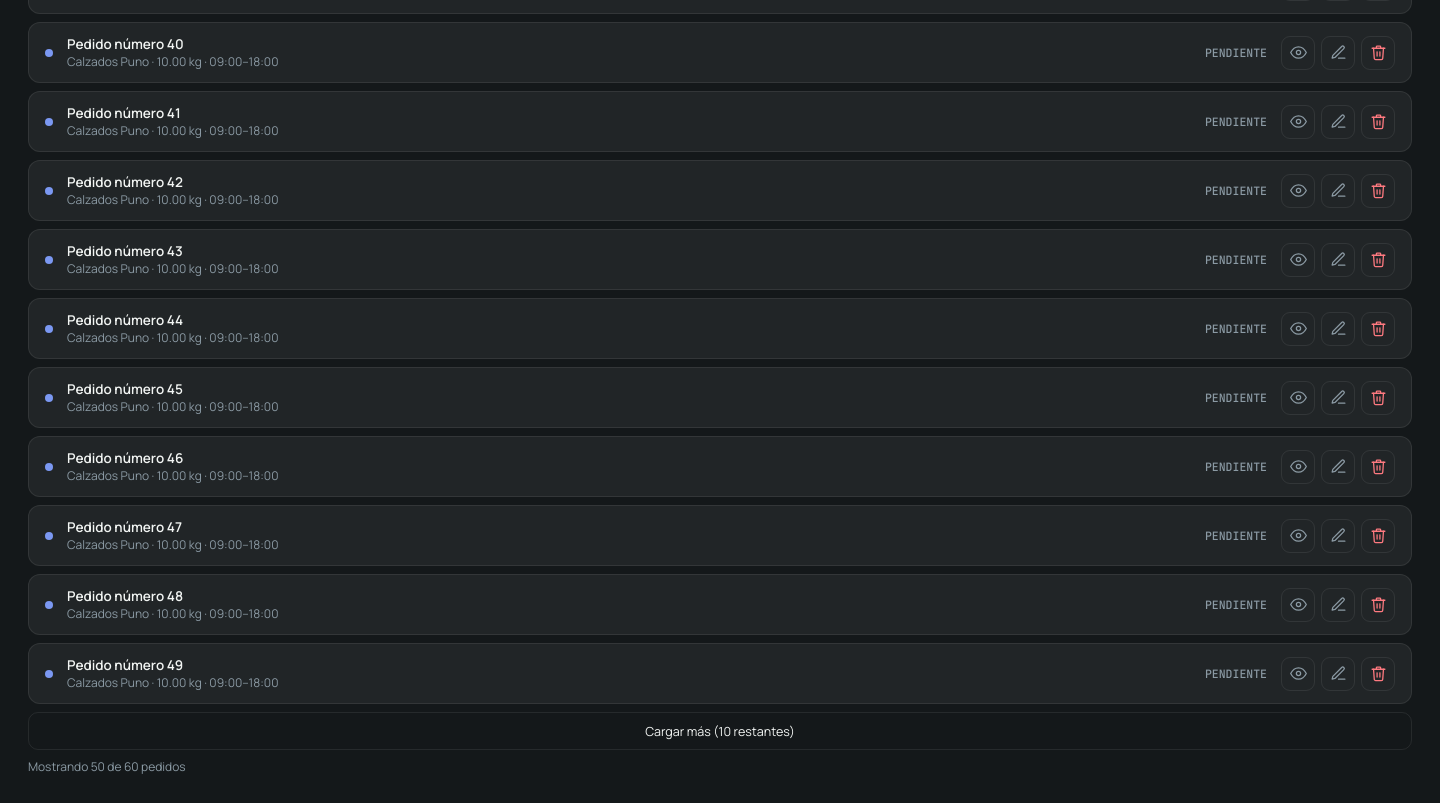
Test case: PedidosPage — paginación › con más de 50 pedidos muestra la primera página y el botón para cargar el resto
(page scrolled)
Expected: the text "Mostrando 50 de 60 pedidos" is shown, left=28, top=758, right=186, bottom=775
Expected: the text "Pedido número 55" is not shown
Step 1. Click the button "Cargar más (10 restantes)" → coordinates (720, 731), box left=28, top=712, right=1412, bottom=750
(page scrolled)
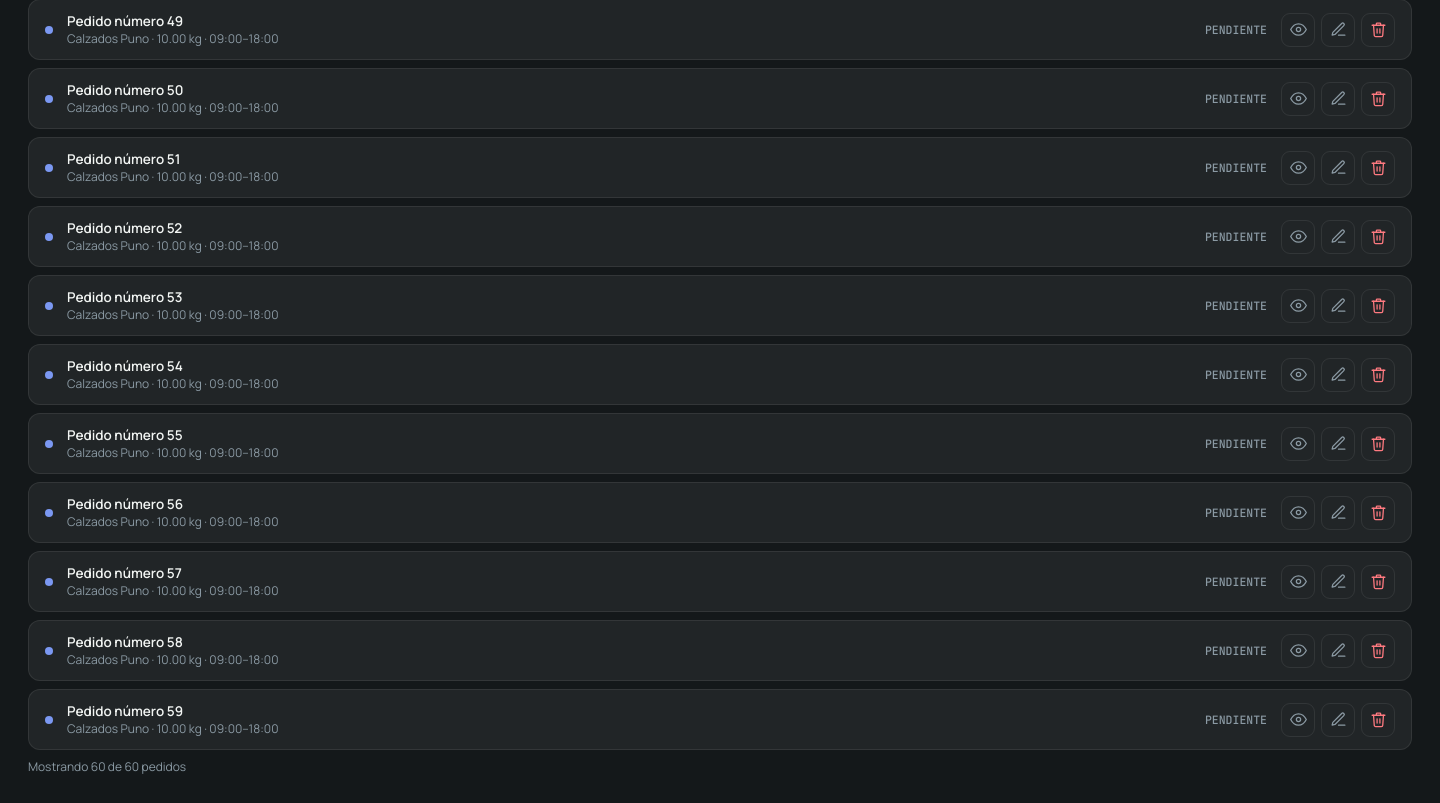
Result: the text "Pedido número 55" is shown at left=67, top=426, right=183, bottom=444
Result: the text "Mostrando 60 de 60 pedidos" is shown at left=28, top=758, right=186, bottom=775
Result: the button "Cargar más" is gone
